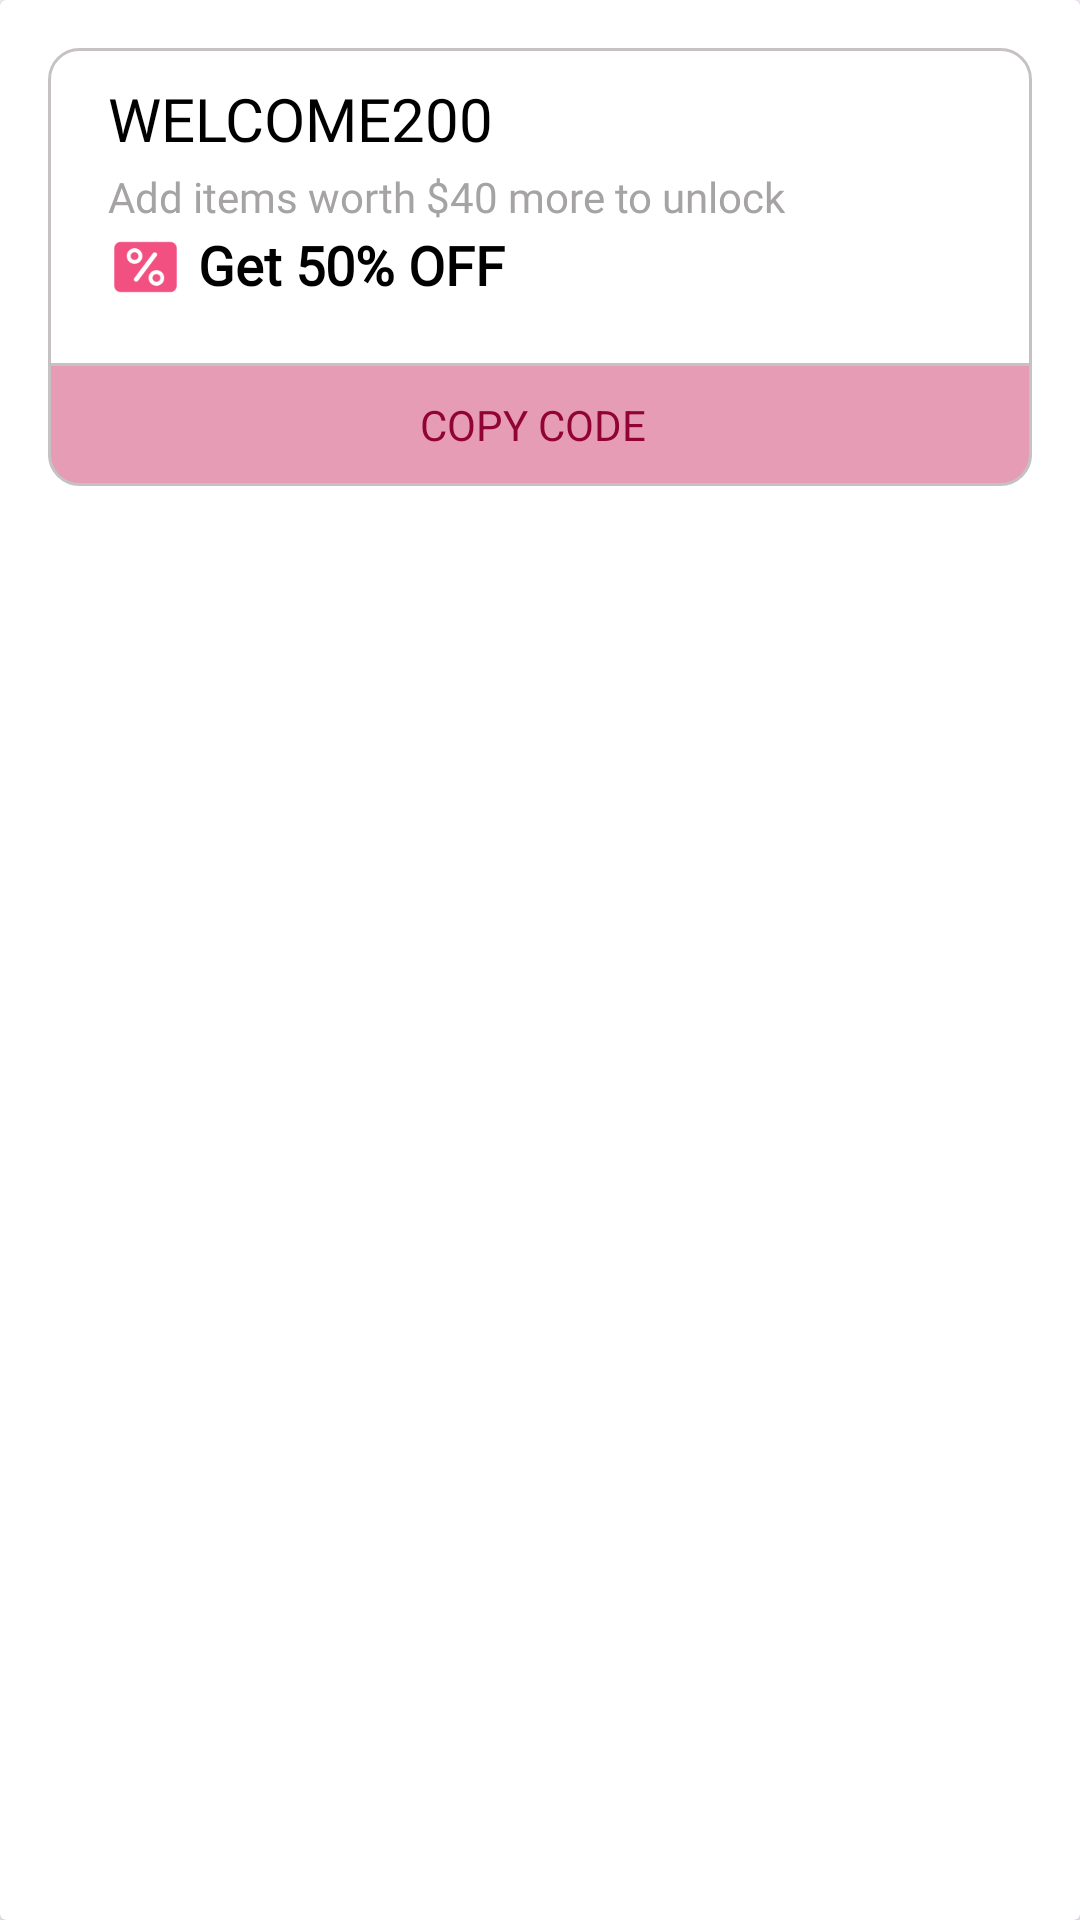

Icon bounding boxes for this 1080px x 1920px phone screenshot, format BBox(x1, y1, x2, y2):
ta couponicon: BBox(114, 241, 177, 293)
